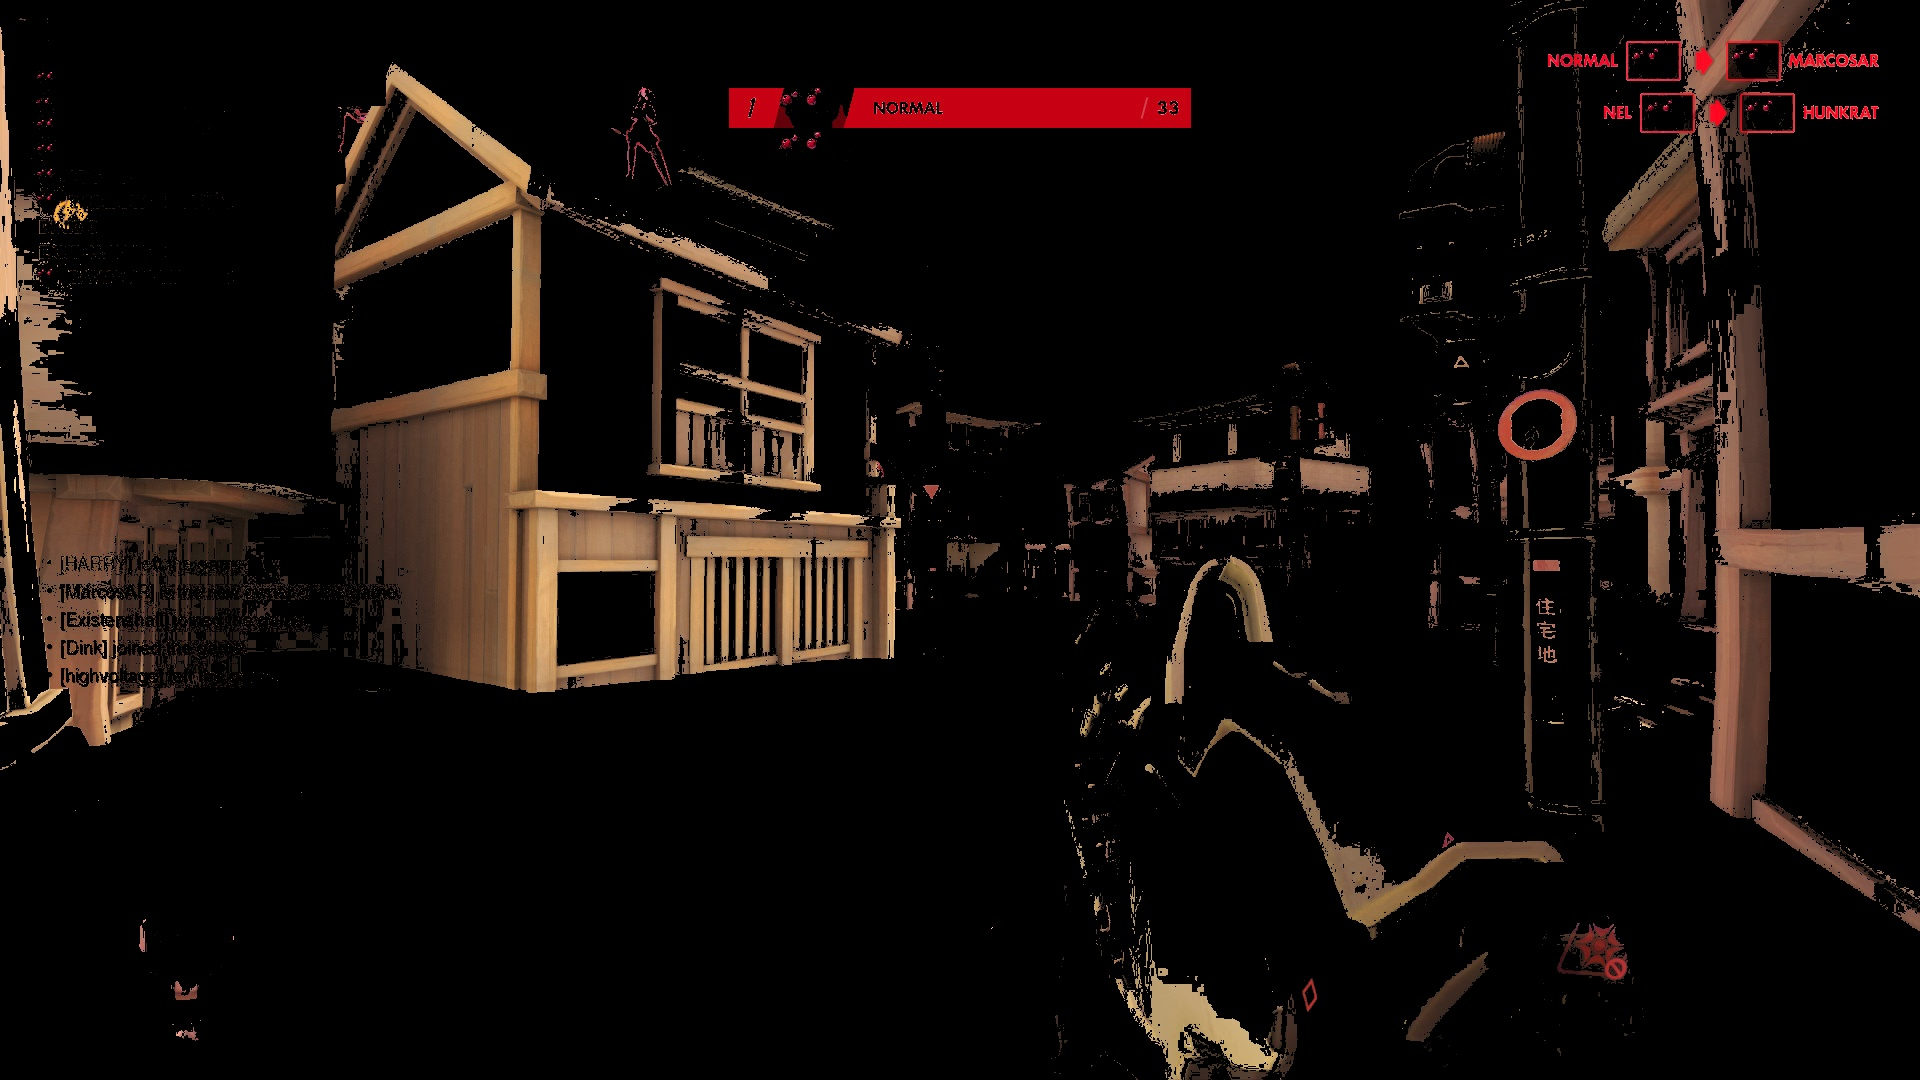widowmaker: (622, 84, 676, 199)
